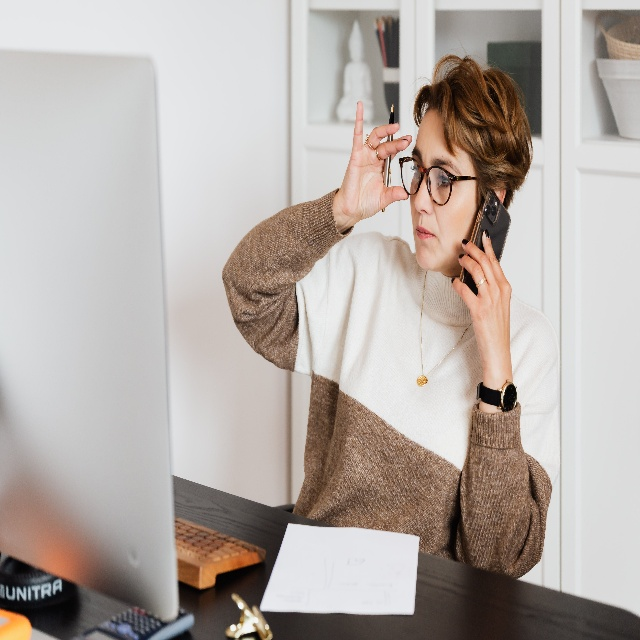Gafas: (399, 155, 478, 205)
Sin_guantes: (340, 100, 413, 223), (450, 229, 513, 368)
